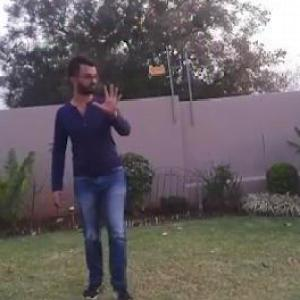follow_hand: (90, 80, 126, 117)
